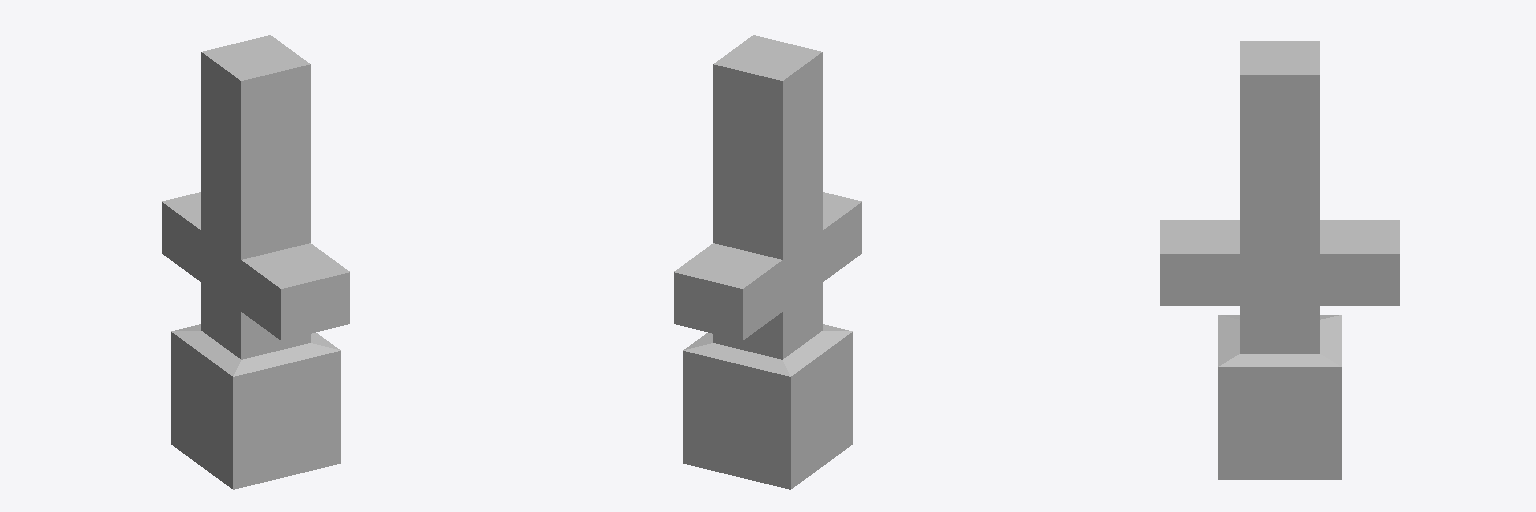
File: cross.obj
3 views of the same model, side by side, from view 1: azimuth 30°, elevation 25°; view 2: azimuth 150°, elevation 25°; view 3: azimuth 270°, elevation 25° (orthographic).
Parts seen in each view (by area): view 1: Cube; view 2: Cube; view 3: Cube.
Boxes of the visible parts, box(x1,y1,x2,y2) form: Cube: box(162, 35, 349, 489); Cube: box(674, 35, 861, 489); Cube: box(1160, 41, 1399, 479).
Size of the model in its own units: 2 by 7.01 by 3.84.